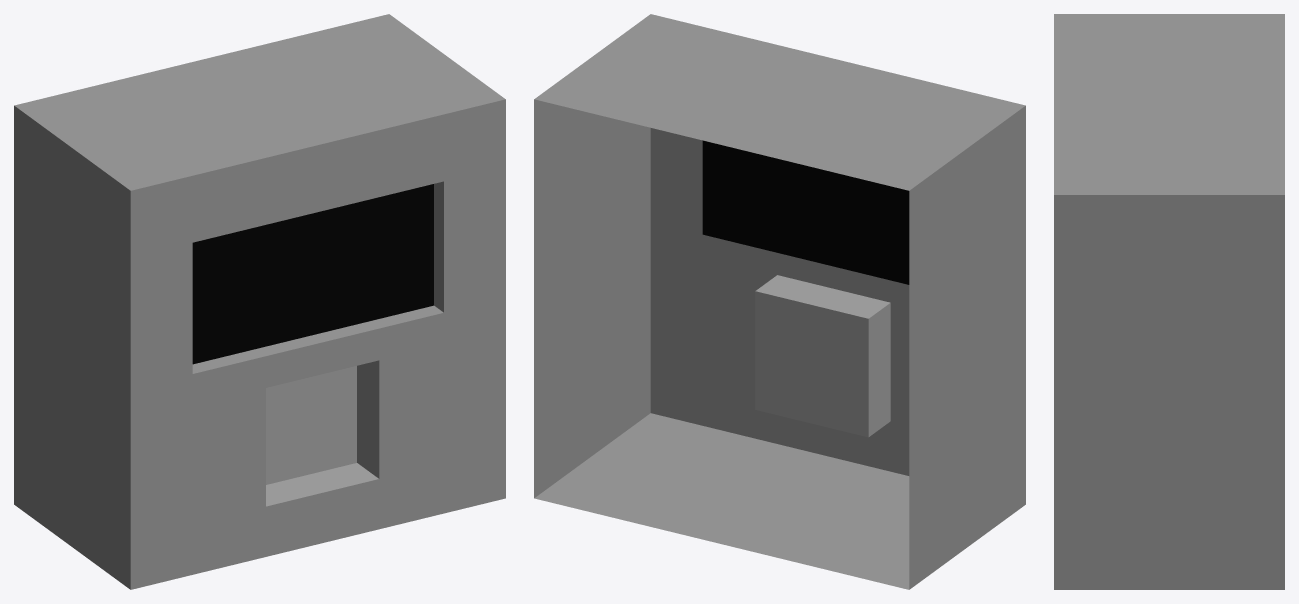
Rendered from TimeMachine0.fbx.
3 renders of one model, left to right at view 1: azimuth 30°, elevation 25°; view 2: azimuth 150°, elevation 25°; view 3: azimuth 270°, elevation 25°, orthographic.
Visible parts, largest first — view 1: pCube8; view 2: pCube8; view 3: pCube8.
Boxes of the visible parts, box(x1,y1,x2,y2) form: pCube8: box(14, 14, 505, 589); pCube8: box(534, 14, 1025, 589); pCube8: box(1054, 14, 1284, 589).
Size of the model in its own units: 2.44 by 2.48 by 1.31.
